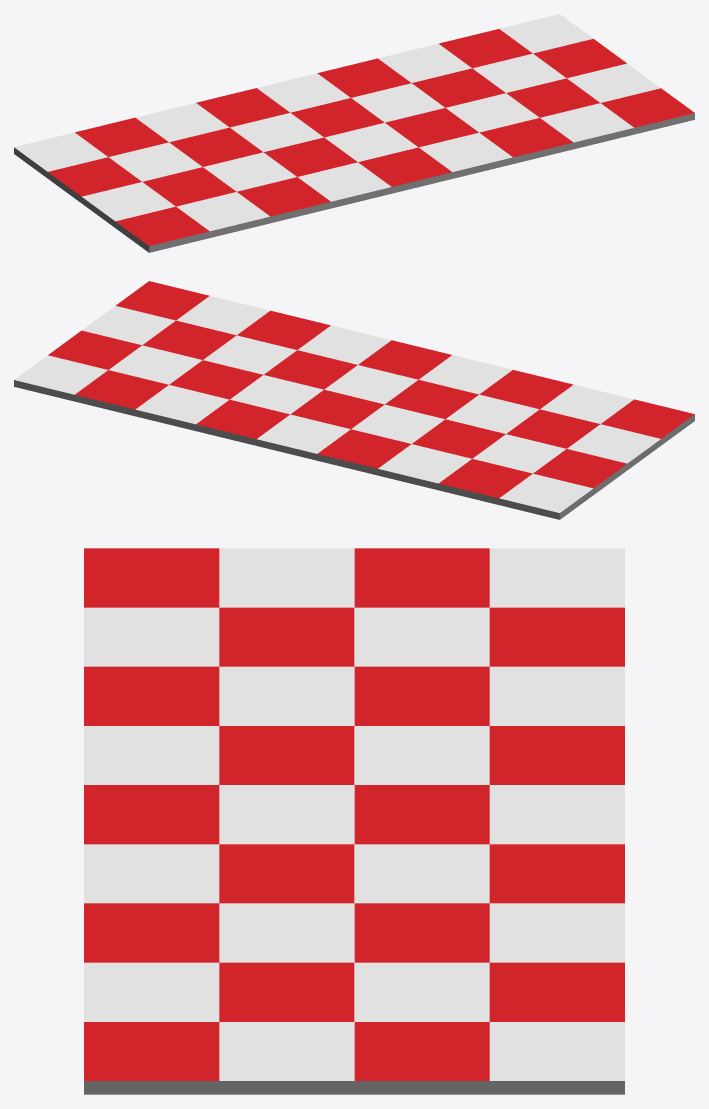
File: RW_Kitchen Floor.FBX
3 renders of one model, top to bottom at view 1: azimuth 30°, elevation 25°; view 2: azimuth 150°, elevation 25°; view 3: azimuth 270°, elevation 25°, orthographic. The views are drawn at different scales.
Parts seen in each view (by area): view 1: Box002; view 2: Box002; view 3: Box002.
Boxes of the visible parts, left/top/right/bottom form: Box002: left=14, top=14, right=694, bottom=252; Box002: left=14, top=281, right=694, bottom=519; Box002: left=84, top=548, right=624, bottom=1094.
Size of the model in its own units: 526 by 6.26 by 226.
7 materials, 2 textured.
